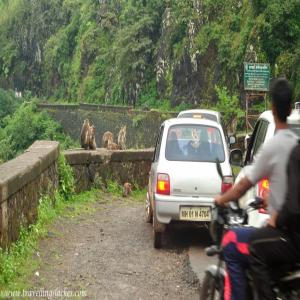Vehicle-registration-plate: (180, 207, 212, 221)
